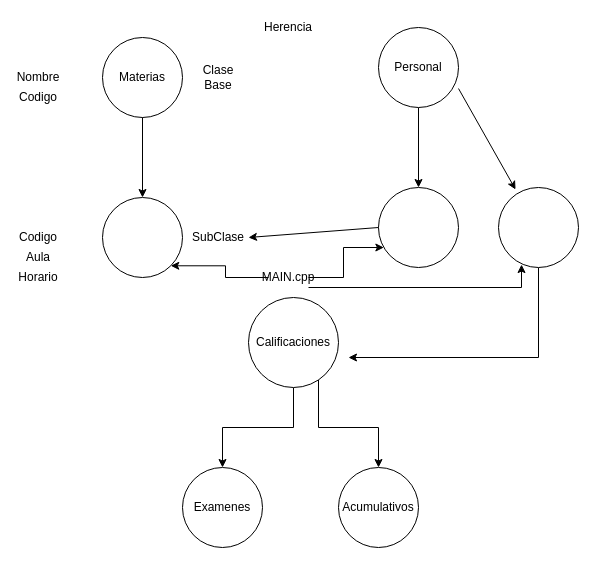
The diagram is 596 pixels wide and 565 high, and some of its shapes have lost their labels. Each missing label, with the centre of its shape:
"Alumnos" goes at point 538,227.
"Docentes" goes at point 418,227.
"Secciones" goes at point 142,237.
